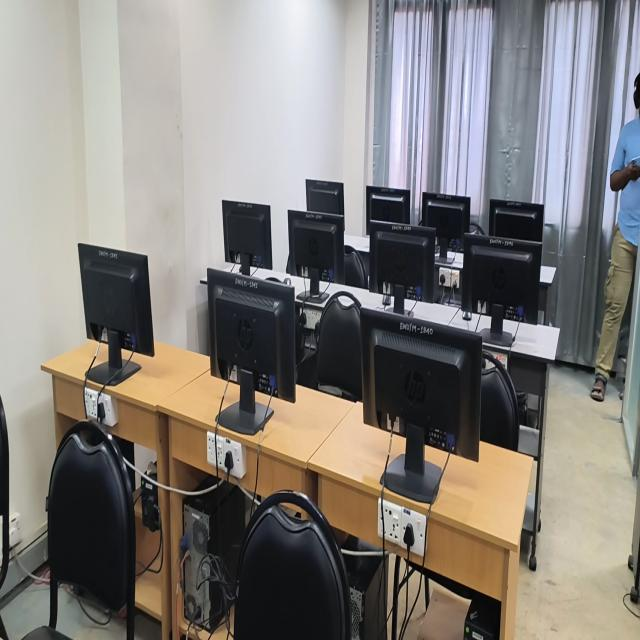Chair: (47, 421, 136, 639), (234, 491, 351, 639), (298, 292, 361, 402), (480, 359, 519, 450), (0, 397, 10, 588)
Cpu: (181, 481, 249, 633)
Monitor: (360, 308, 482, 506), (208, 270, 295, 434), (78, 244, 154, 386), (461, 233, 542, 324), (369, 221, 435, 301), (287, 210, 344, 295), (222, 201, 272, 274), (419, 192, 470, 251), (489, 199, 544, 242), (366, 186, 410, 233), (305, 179, 344, 216)
Mouse: (382, 294, 392, 306), (463, 312, 471, 319), (283, 278, 291, 284)
